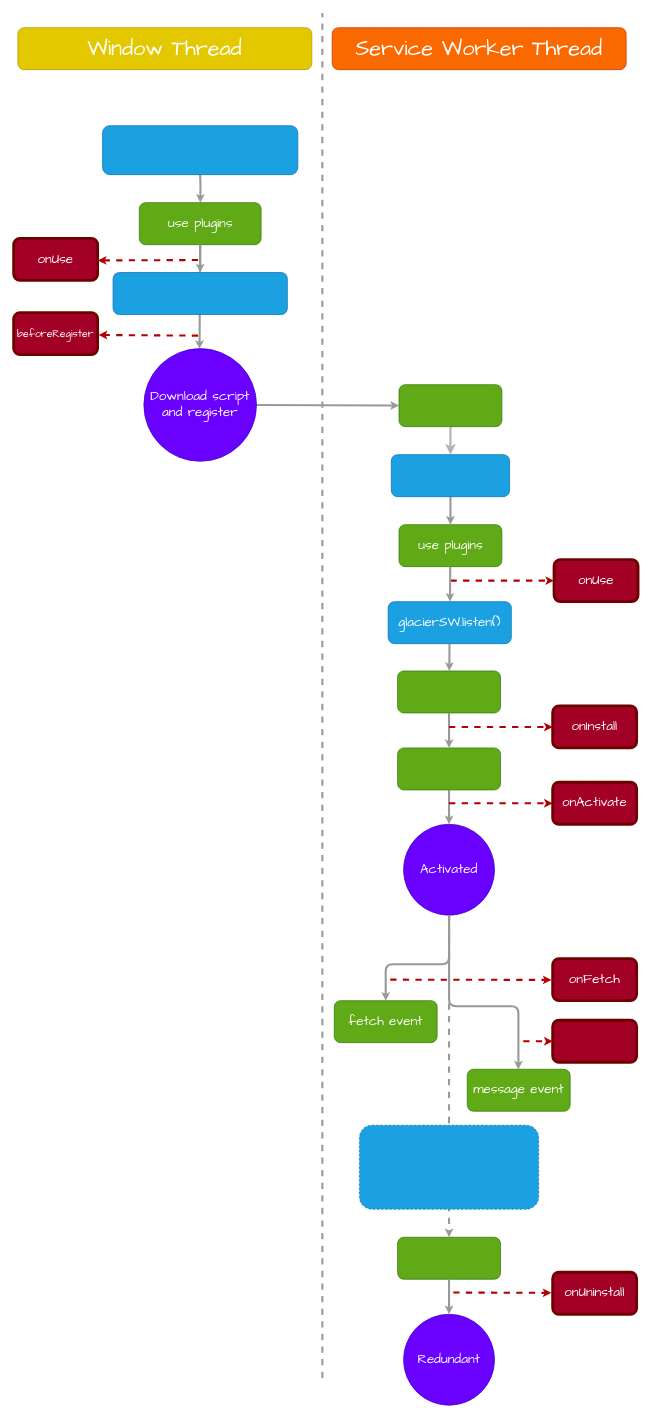
Image size: 651x1418. Some labels were removed from this diagram. The box of each missing label's shape, as (x1, y1, x2, y2) in pixels:
active event: (397, 747, 500, 790)
Execute Script: (398, 384, 502, 427)
glacierWindow.register(): (112, 272, 287, 315)
install event: (397, 670, 500, 713)
new GlacierSW(): (391, 454, 510, 497)
new GlacierWindow('xxx.js'): (102, 125, 298, 175)
onMessage: (551, 1018, 638, 1063)
uninstall: (397, 1237, 500, 1279)
when glacierWindow.unregister() or giaclerSW.uninstall() called: (359, 1125, 539, 1209)
